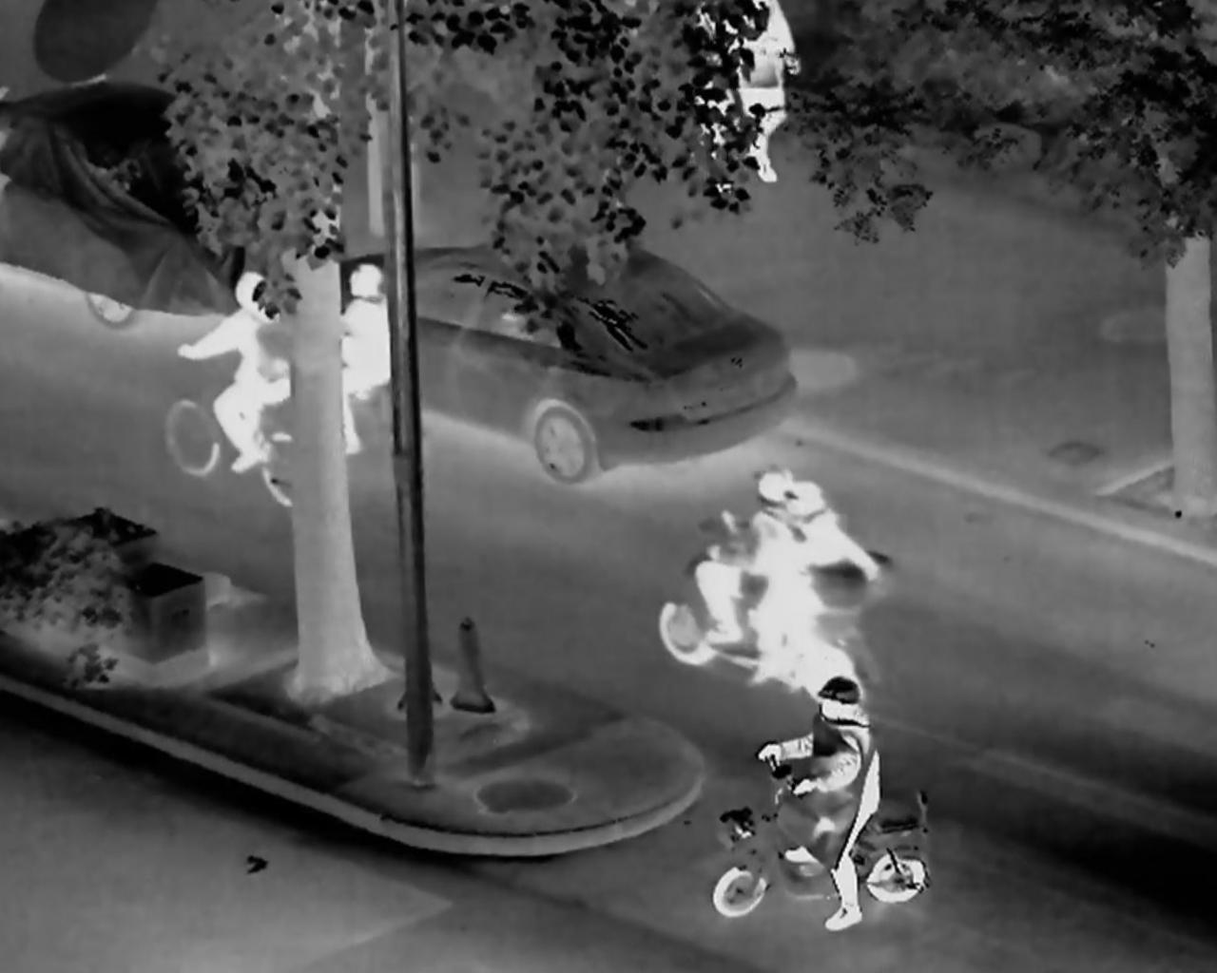person: (760, 680, 882, 929), (175, 274, 294, 478), (688, 465, 797, 664), (758, 480, 869, 659), (318, 265, 392, 456), (683, 3, 744, 193)
